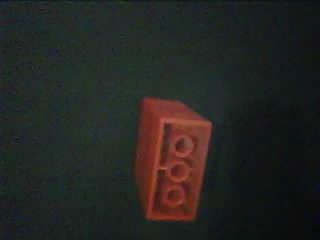lego: (130, 96, 213, 221)
